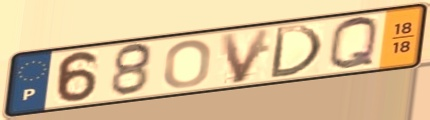6: (54, 49, 101, 105)
8: (107, 42, 156, 100)
D: (267, 23, 326, 80)
O: (161, 38, 214, 90)
Q: (325, 15, 381, 73)
V: (217, 25, 275, 86)
